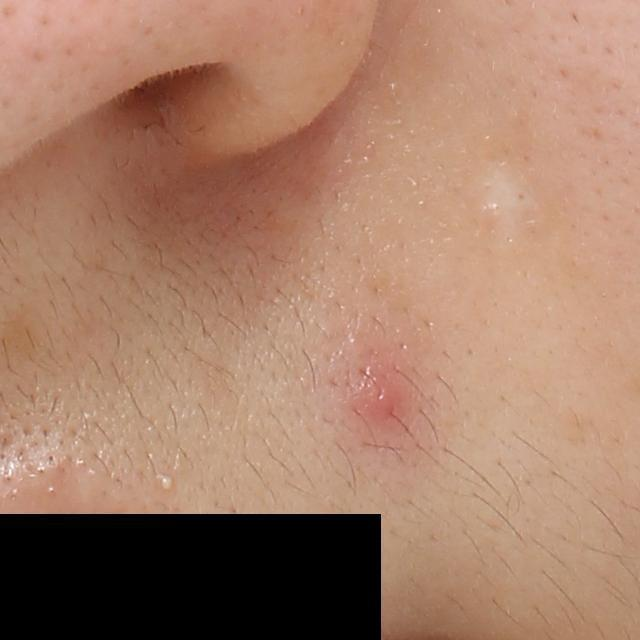papule: (336, 354, 422, 440)
pustule: (155, 473, 176, 494)
